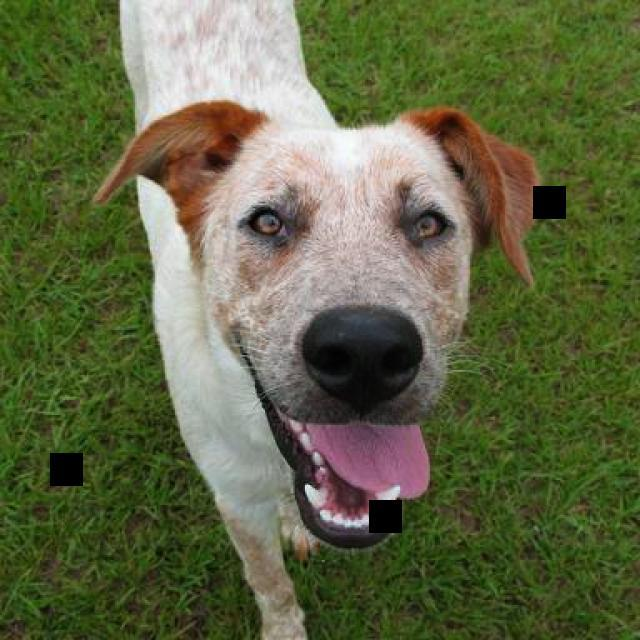adult_dog: (91, 1, 538, 640)
